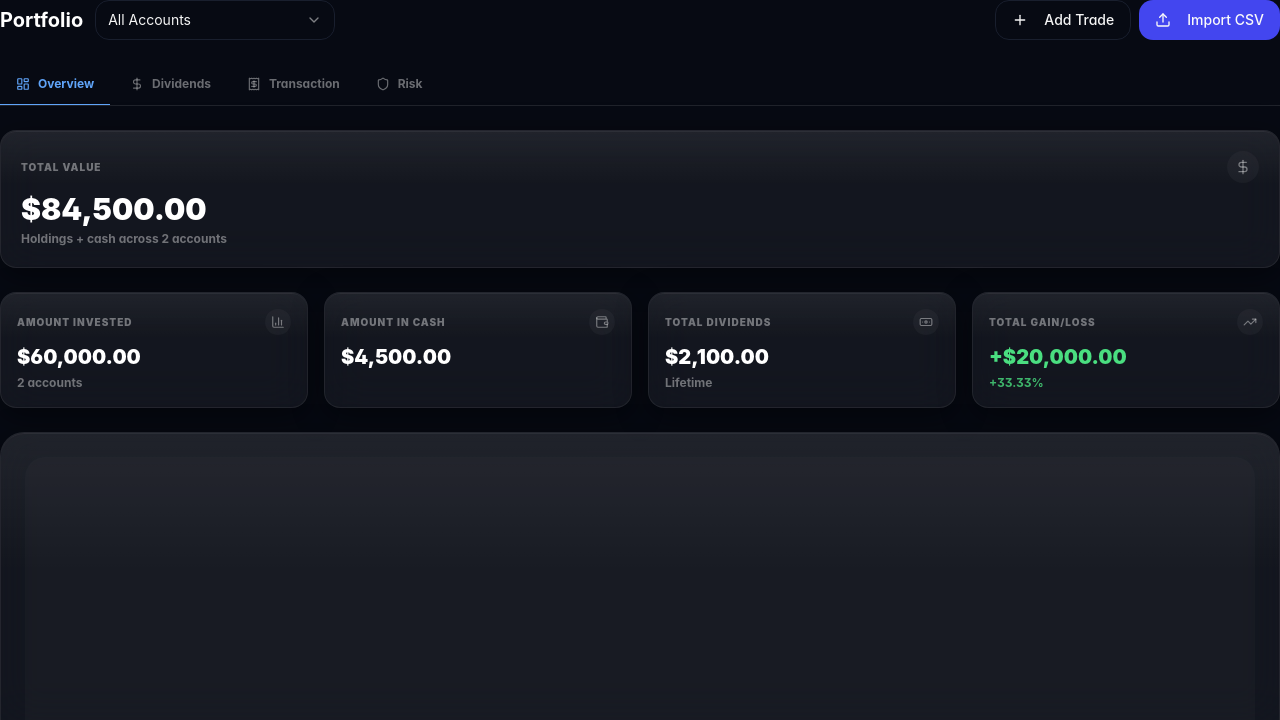
Test: PortfolioTabShell — FT-SHELL-01 to FT-SHELL-04 › FT-SHELL-14: clicking Import CSV button opens import modal
What coordinates should you click on to do the following:
click the button "Import CSV"
I would click on:
 (1210, 20)
Its box is [1139, 0, 1279, 40].
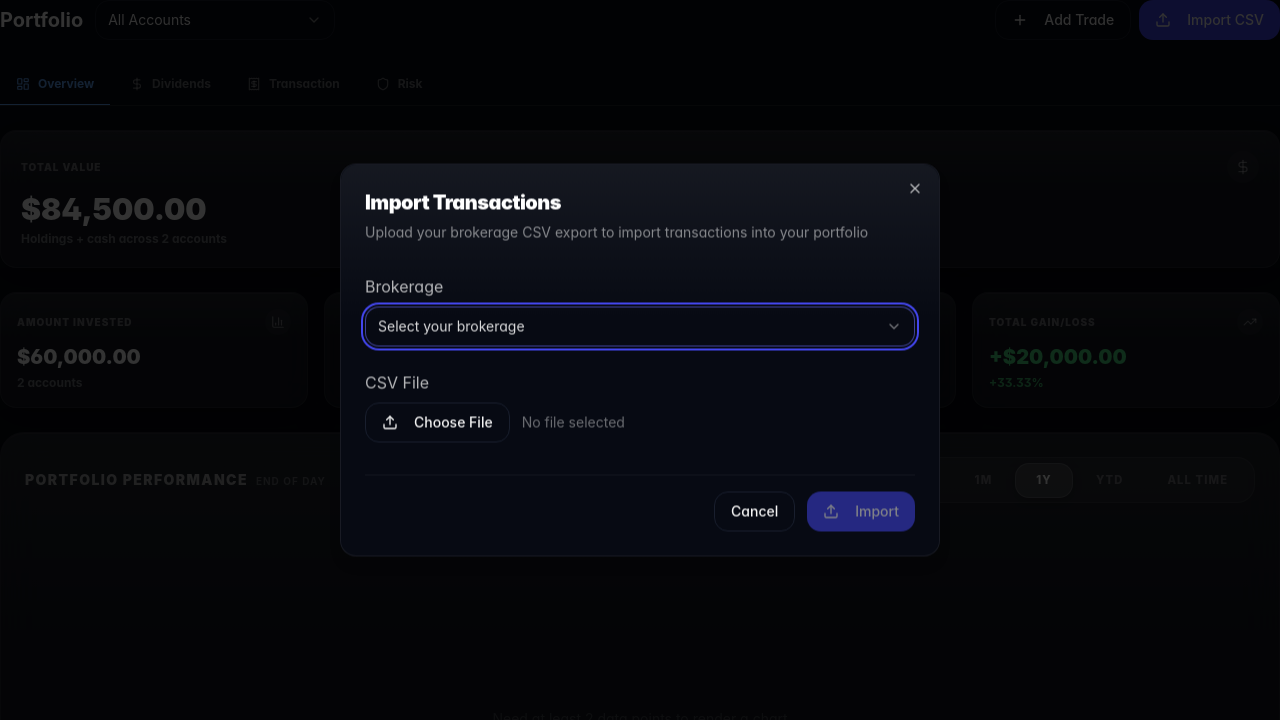
Result: the heading "Import Transactions" is shown at [365, 190, 561, 214]
